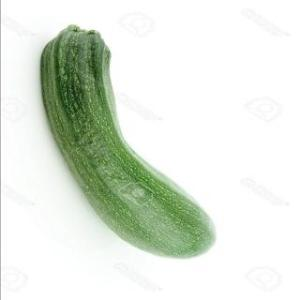zucchini: (34, 29, 228, 258)
